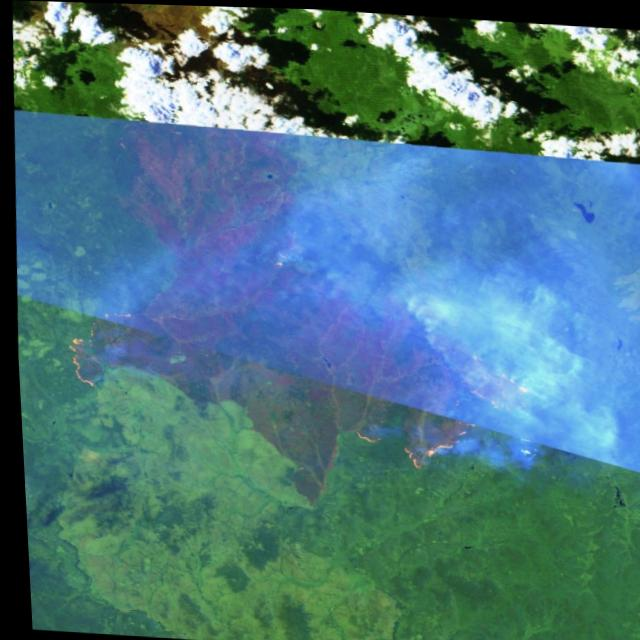fire: (328, 333, 543, 482), (45, 297, 144, 398), (263, 227, 319, 278)
